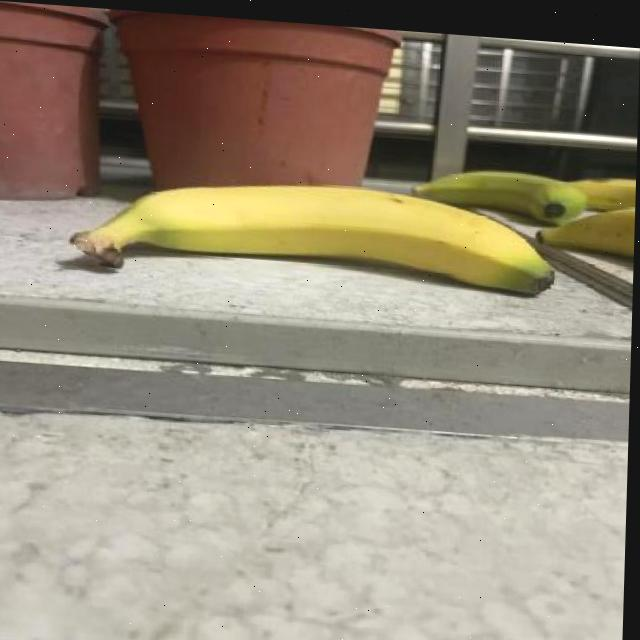banana: (56, 153, 559, 313), (408, 150, 592, 234)
